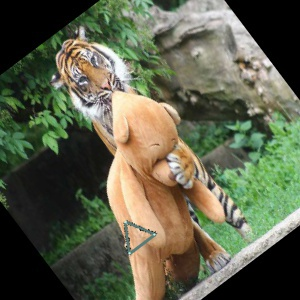triangle: (119, 219, 160, 257)
